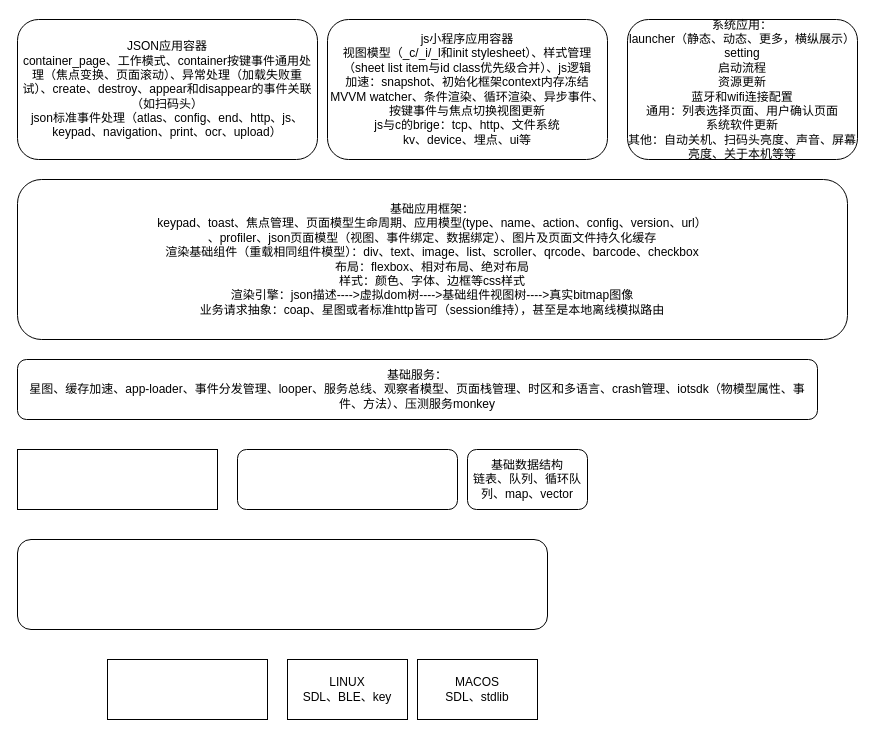
Some shapes in this 875 by 742 pixel diagram are drawn without their labels. The centre of each missing label's shape, as x and y in pixels:
"RTOS wifi、蓝牙、按键、led、spi屏、蜂鸣器、陀螺仪 little fs、kv、kmalloc、ota、低功耗、watchdog" goes at (x=187, y=689).
"三方库： mqtt、coap、jerry-script、qrcode、zlib、freetype、lvgl、tls、MD5、cJSON、png" goes at (x=117, y=479).
"统一抽象层 显示器抽象、蓝牙抽象、系统reboot抽象、线程、锁、信号量抽象、内存管理、rtc、led、震动、蜂鸣器、设备信息、文件io、扫码头、ocr" goes at (x=282, y=584).
"自建库： httpclient、kv、ocr、tracklog、memorysniff" goes at (x=347, y=479).
